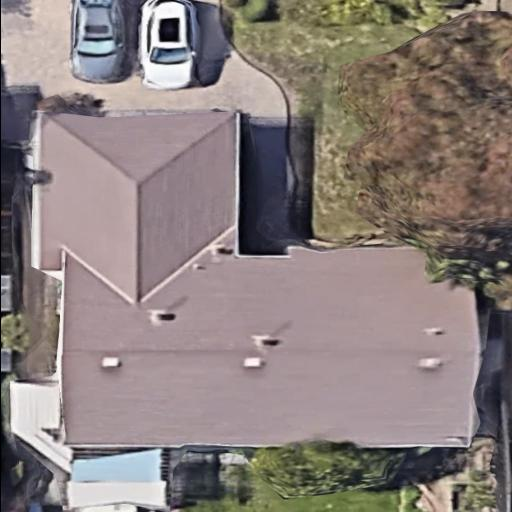Slope-Roof: (30, 112, 478, 449)
